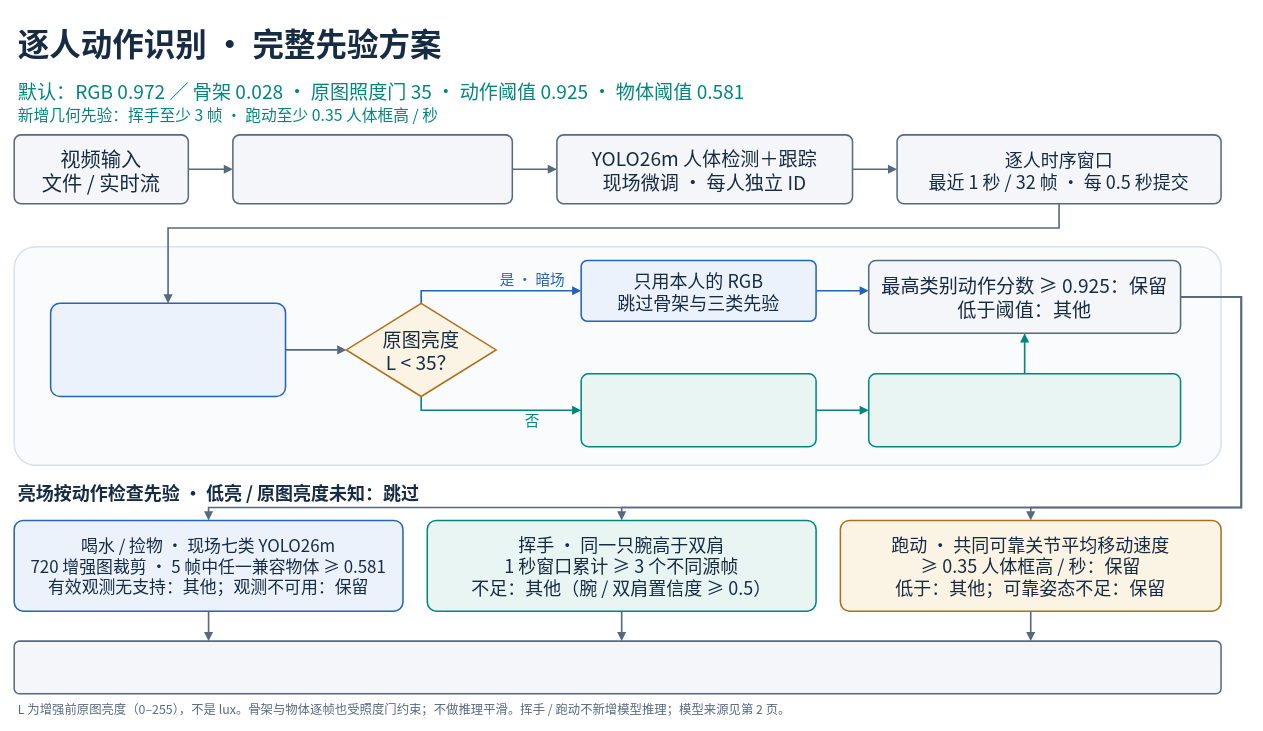
Some shapes in this 1263 by 731 pixel diagram are drawn without their labels. The shapes that lost their labels are listed below. From the top down, each one's centre as x and y in pixels, then its label:
(372,169): 保留增强前亮度 L → 增强 Retinexformer · 公开预训练 处理长边 720
(167,349): 逐人 ROI · 现场微调 VideoMamba-Tiny RGB 概率 P_RGB
(698,410): RTMO-s → 同人 ST-GCN 现场姿态 / 骨架动作微调
(1024,410): 同人融合 0.972 P_RGB + 0.028 P_pose 无合格骨架：soft 投「其他」票
(617,667): 人体框＋骨架＋青色物体框（类别/置信度/人物 ID）→ 实时输出 非其他按人物 ID＋动作保存完整画面 · 前后各 2 秒 · 最长 15 秒 · 多人可重叠
